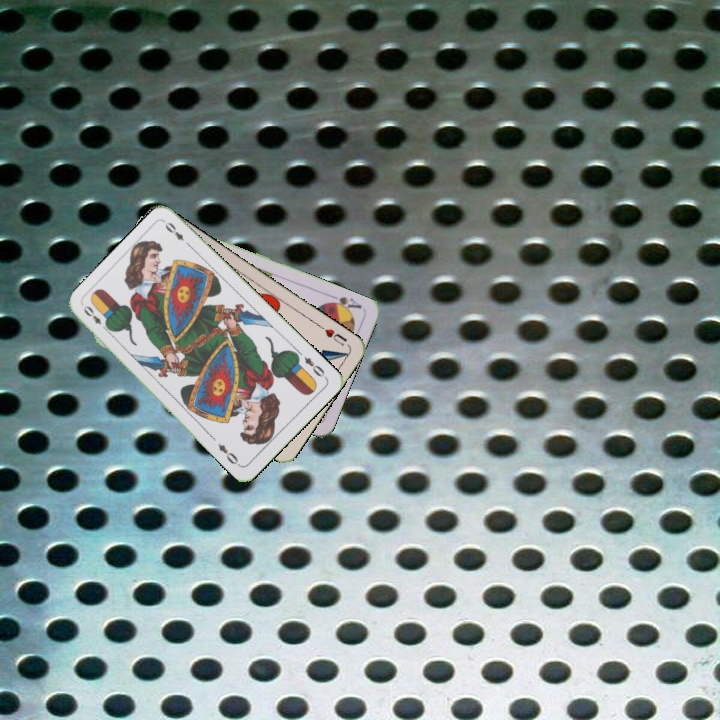EO: (79, 301, 112, 334), (300, 352, 327, 379)
HU: (315, 321, 350, 349)
SA: (323, 291, 364, 315)
